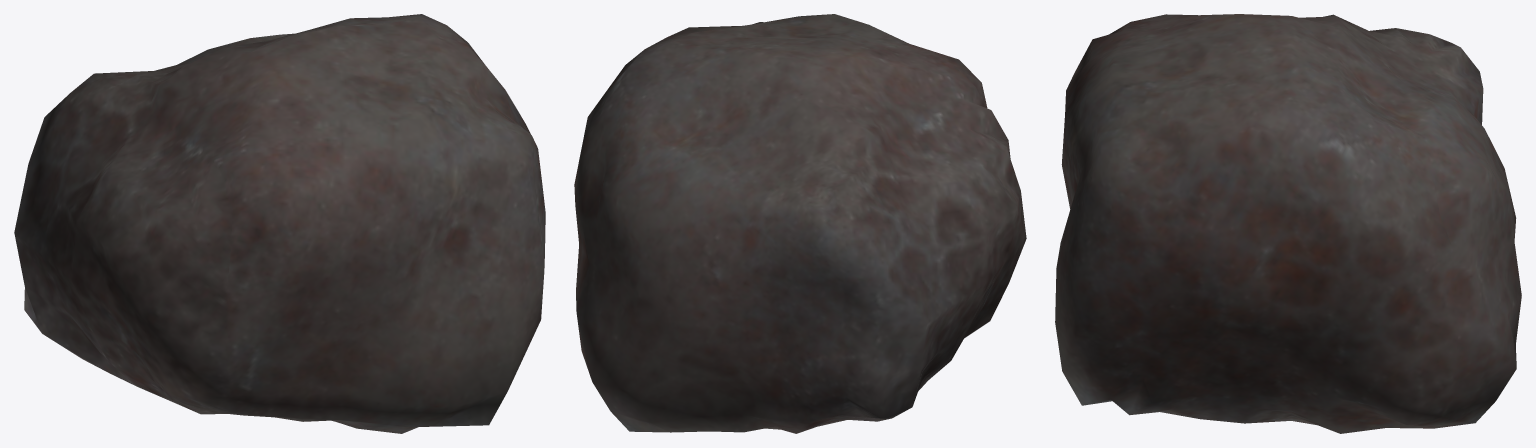
Rendered from asteroid3.dae.
The picture shows the model from 3 angles, left to right: view 1: azimuth 30°, elevation 25°; view 2: azimuth 150°, elevation 25°; view 3: azimuth 270°, elevation 25°; orthographic projection. The views are drawn at different scales.
Parts seen in each view (by area): view 1: Lp03; view 2: Lp03; view 3: Lp03.
Part boxes in pixels (x1,y1,x2,y2): Lp03: (14,14,545,433); Lp03: (574,14,1026,433); Lp03: (1055,14,1521,433).
Size of the model in its own units: 6.44 by 5.7 by 6.39.
Materials: 1 (1 with a texture image).
